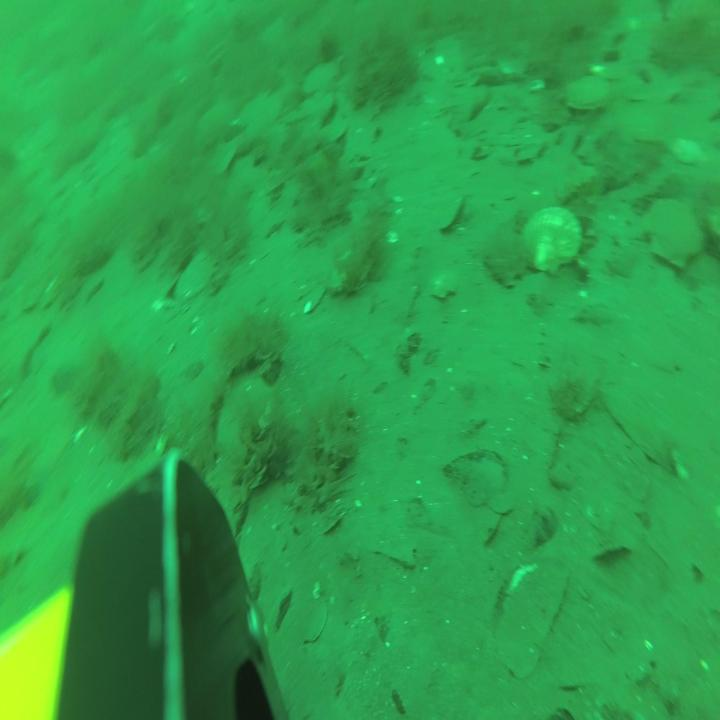scallop: (216, 366, 274, 464), (638, 196, 704, 272), (519, 206, 584, 278), (175, 246, 217, 303), (564, 71, 614, 114), (302, 57, 342, 101), (427, 261, 461, 303)
